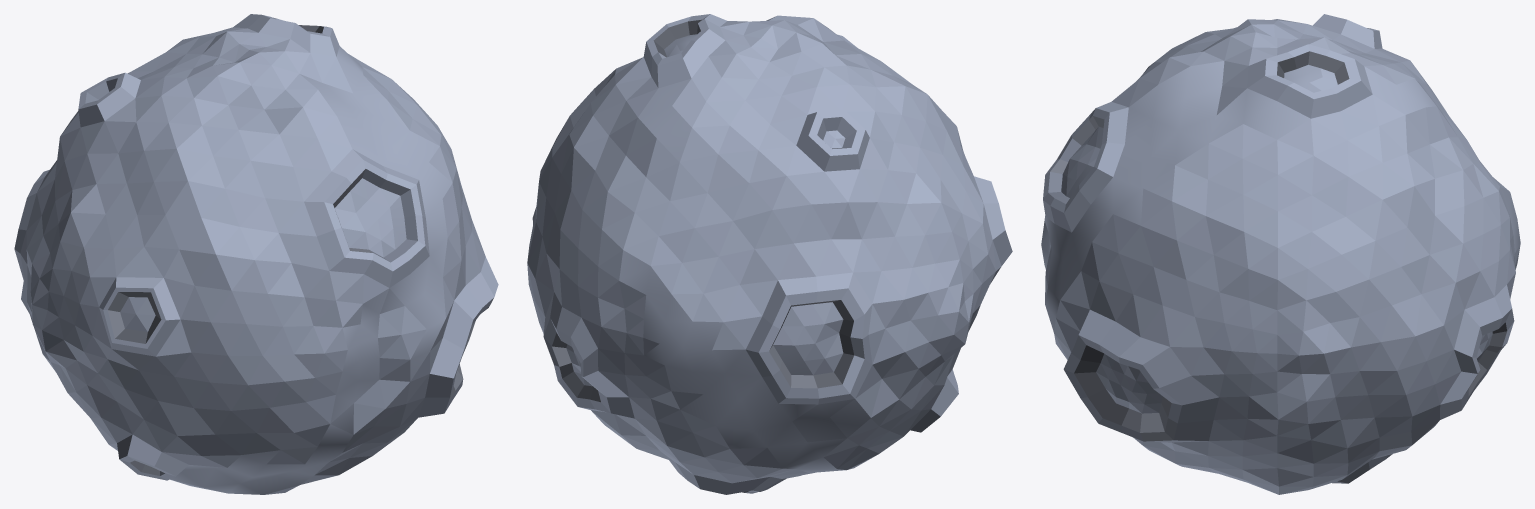
The picture shows the model from 3 angles, left to right: view 1: azimuth 30°, elevation 25°; view 2: azimuth 150°, elevation 25°; view 3: azimuth 270°, elevation 25°; orthographic projection. The views are drawn at different scales.
Visible parts, largest first — view 1: Moon; view 2: Moon; view 3: Moon.
Part boxes in pixels (bbox=[...]): Moon: bbox=[14, 14, 498, 494]; Moon: bbox=[527, 14, 1012, 494]; Moon: bbox=[1041, 14, 1520, 494].
Size of the model in its own units: 19.82 by 20.34 by 19.52.
